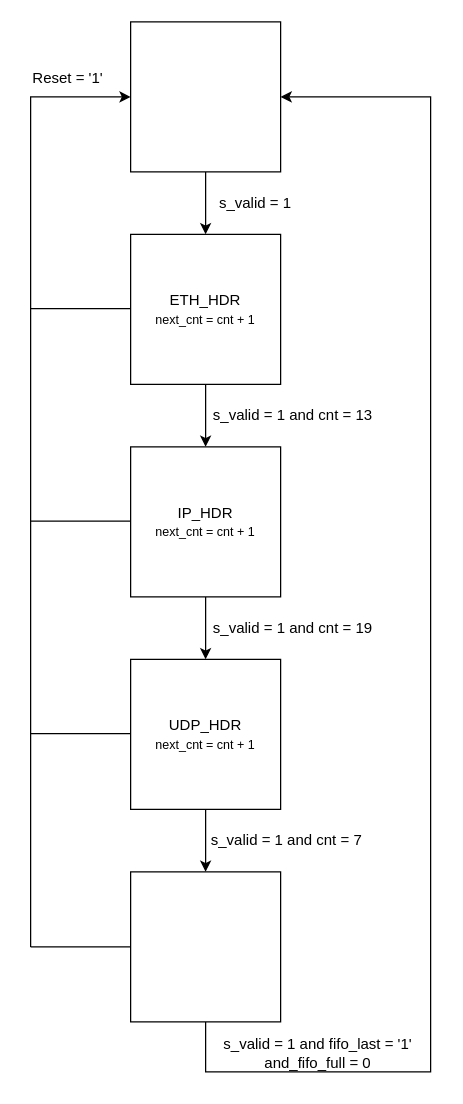
Image size: 463x1104. Some labels were removed from this diagram. The box of each missing label's shape, as (x1, y1, x2, y2) in pixels:
IDLE next_fifo_wr = 0 next_fifo_last = 0 next_fifo_data = fifo_data_reg: (129, 21, 281, 172)
PAYLOAD next_fifo_data = s_data next_fifo_wr = 1: (129, 871, 281, 1022)
